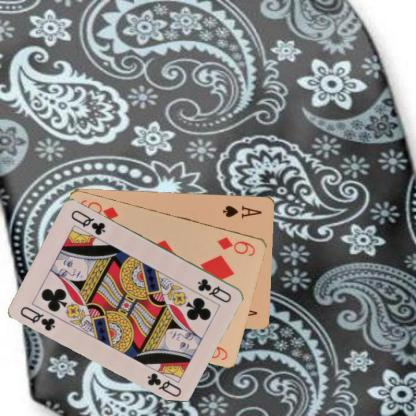6d: (215, 234, 257, 257)
As: (221, 203, 264, 219)
Qc: (18, 303, 57, 332), (195, 276, 233, 304)
